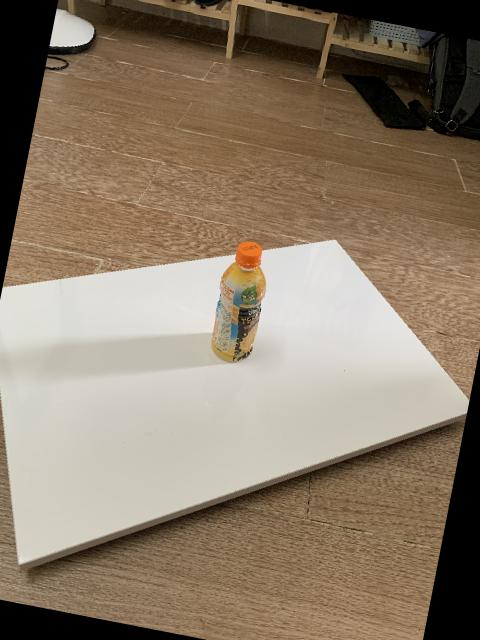teppy_orange_juice: (210, 241, 266, 363)
